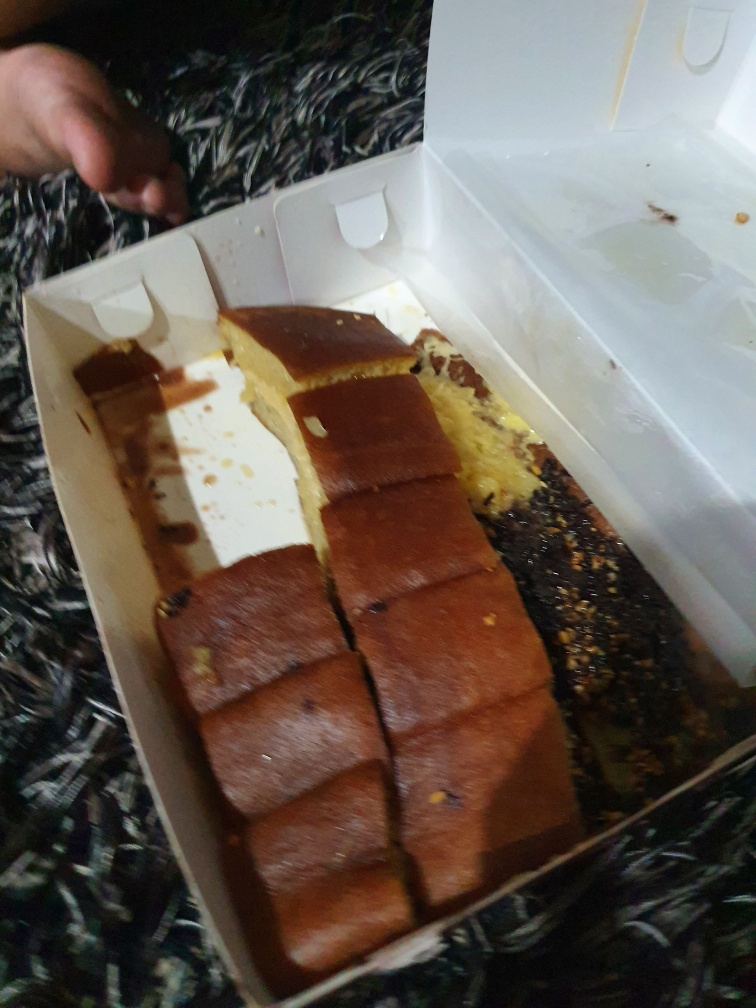martabak manis: (183, 768, 413, 943), (222, 380, 463, 510), (387, 719, 573, 870), (162, 669, 396, 788), (354, 586, 554, 716), (212, 280, 429, 391), (287, 474, 492, 588), (145, 566, 350, 662)
